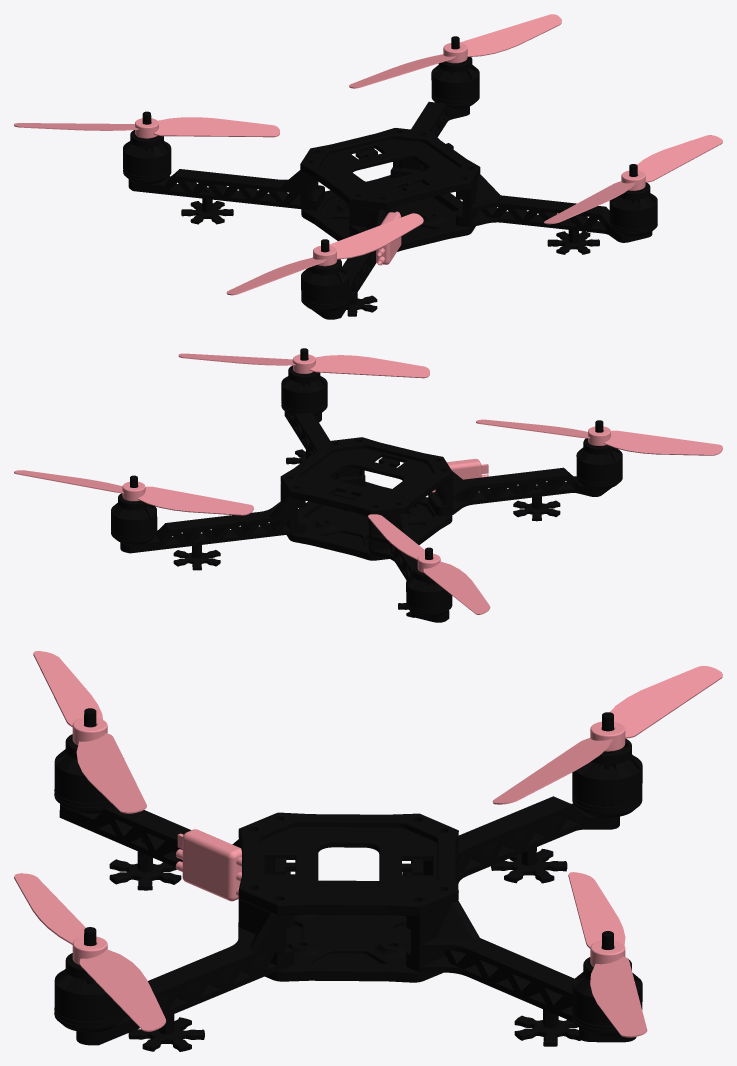
File: 无人机.FBX
3 views of the same model, one above another, from view 1: azimuth 30°, elevation 25°; view 2: azimuth 150°, elevation 25°; view 3: azimuth 270°, elevation 25° (orthographic). The views are drawn at different scales.
Visible parts, largest first — view 1: -DC_Brep (×17); view 2: -DC_Brep (×17); view 3: -DC_Brep (×20).
Boxes of the visible parts, x1,y1,x2,y2 form: -DC_Brep (×17): (14, 14, 722, 319); -DC_Brep (×17): (14, 353, 722, 622); -DC_Brep (×20): (14, 651, 722, 1051).
Size of the model in its own units: 294 by 48.88 by 232.
